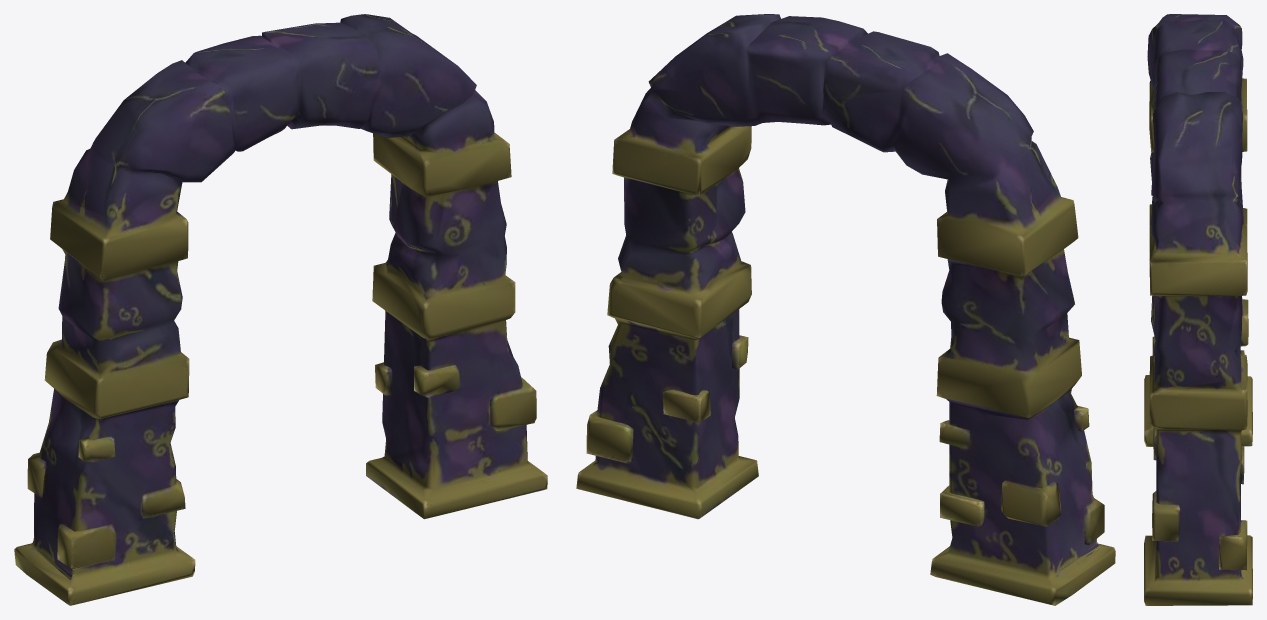
Rendered from breakablelWallFrame_LowPoly.glb.
3 renders of one model, left to right at view 1: azimuth 30°, elevation 25°; view 2: azimuth 150°, elevation 25°; view 3: azimuth 270°, elevation 25°, orthographic. The views are drawn at different scales.
Visible parts, largest first — view 1: Mesh_0.005; view 2: Mesh_0.005; view 3: Mesh_0.005.
Boxes of the visible parts, x1,y1,x2,y2 form: Mesh_0.005: [14, 14, 547, 605]; Mesh_0.005: [576, 14, 1115, 605]; Mesh_0.005: [1144, 14, 1252, 605].
Size of the model in its own units: 2.11 by 2.04 by 0.4468.
Materials: 1 (1 with a texture image).
